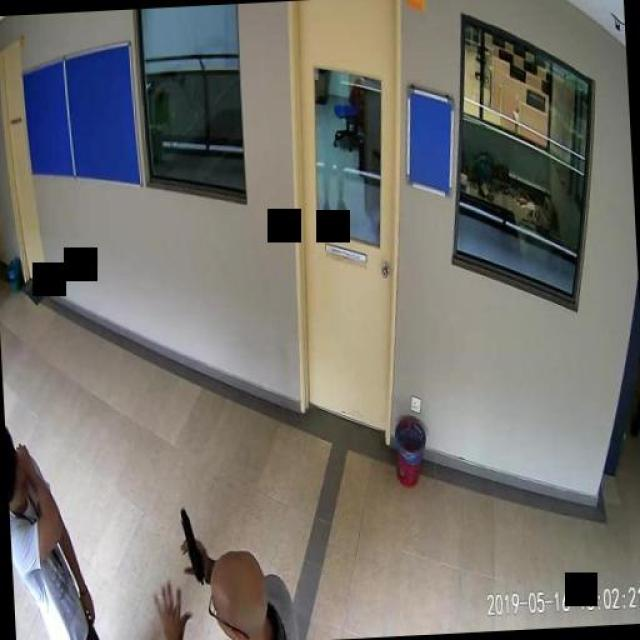gun: (178, 508, 204, 582)
